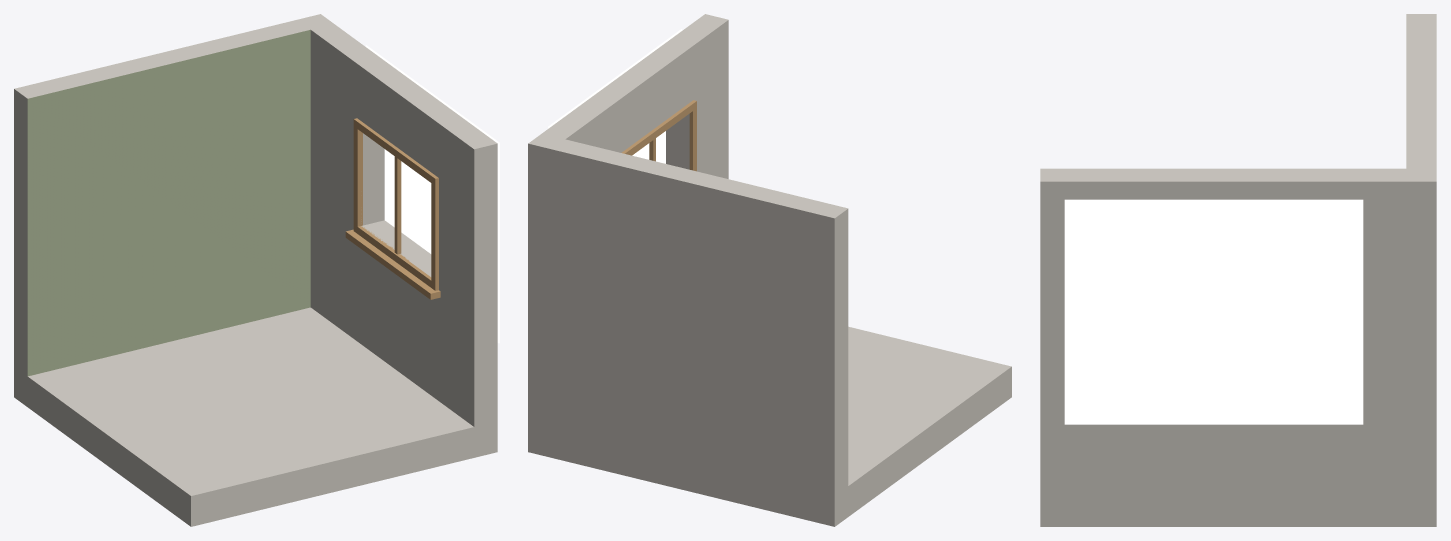
File: room_walls.glb
The picture shows the model from 3 angles, left to right: view 1: azimuth 30°, elevation 25°; view 2: azimuth 150°, elevation 25°; view 3: azimuth 270°, elevation 25°; orthographic projection. The views are drawn at different scales.
Parts seen in each view (by area): view 1: WallWhite, WallGreen, WindowFrame, WindowSky; view 2: WallWhite, WindowFrame, WindowSky; view 3: WallWhite, WindowSky.
Part boxes in pixels (left/top/right/bottom): WallWhite: left=14, top=14, right=497, bottom=526; WallGreen: left=27, top=30, right=310, bottom=376; WindowFrame: left=345, top=118, right=440, bottom=299; WindowSky: left=365, top=45, right=499, bottom=343; WallWhite: left=528, top=14, right=1011, bottom=526; WindowFrame: left=621, top=100, right=696, bottom=171; WindowSky: left=548, top=29, right=682, bottom=163; WallWhite: left=1040, top=14, right=1436, bottom=526; WindowSky: left=1064, top=199, right=1363, bottom=424.
Size of the model in its own units: 3.25 by 3 by 3.12.
